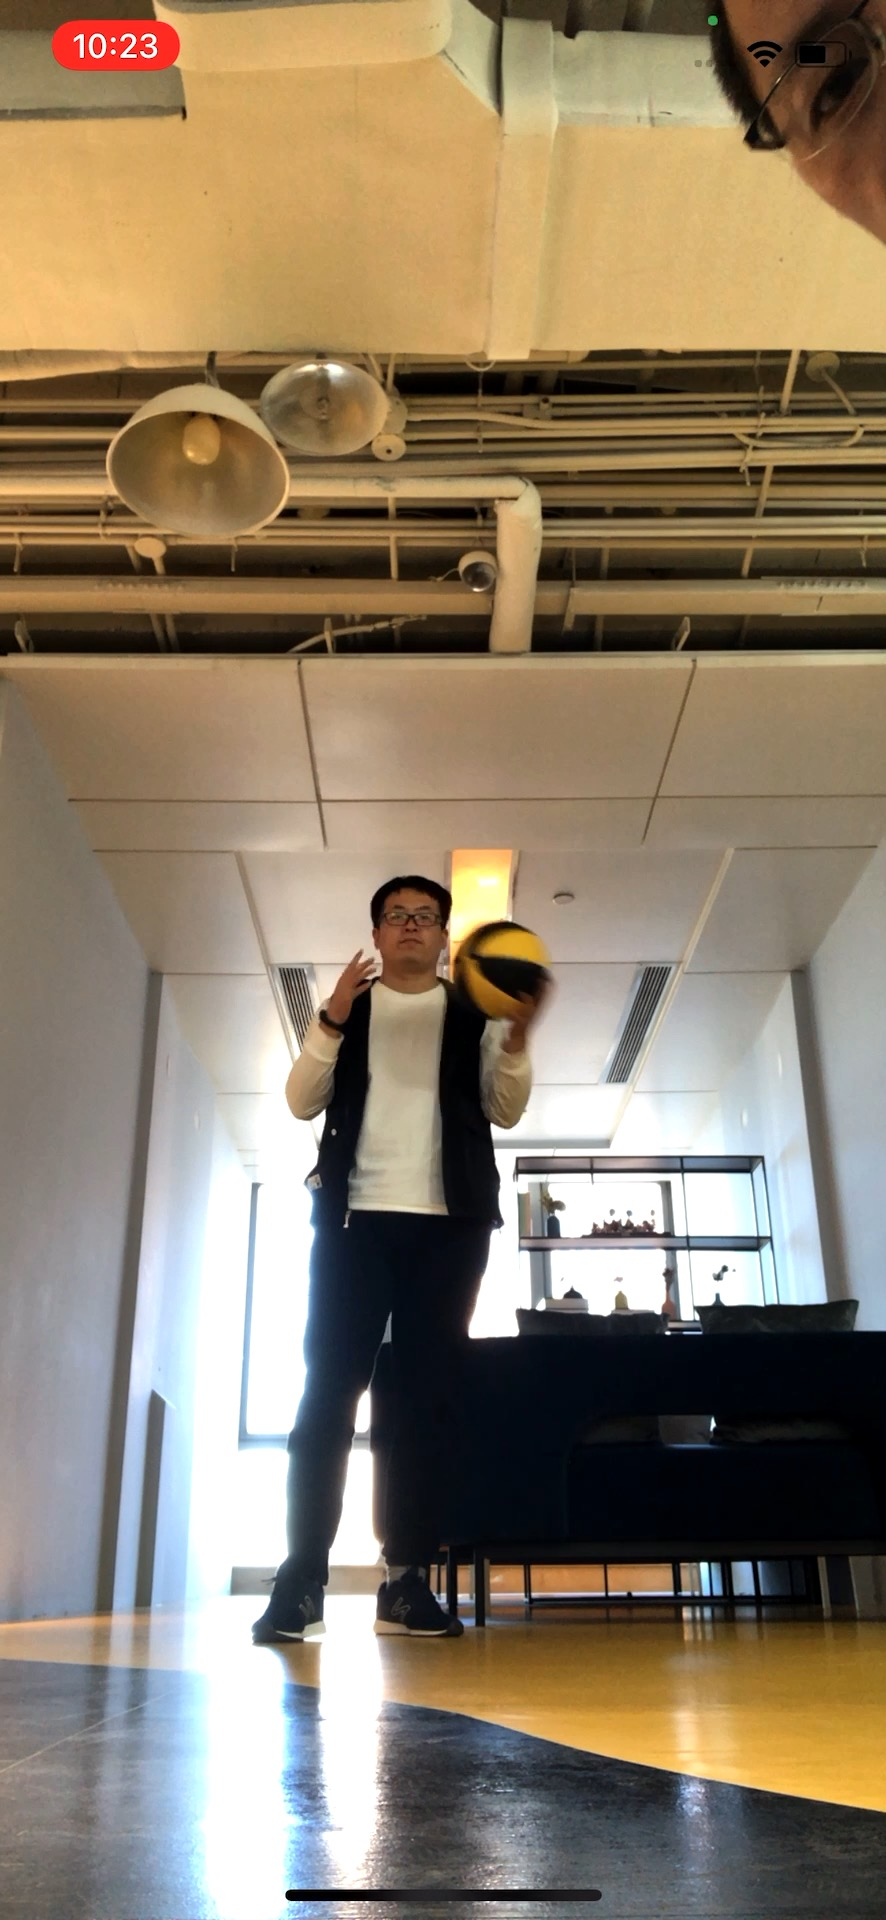ball: (452, 921, 551, 1019)
